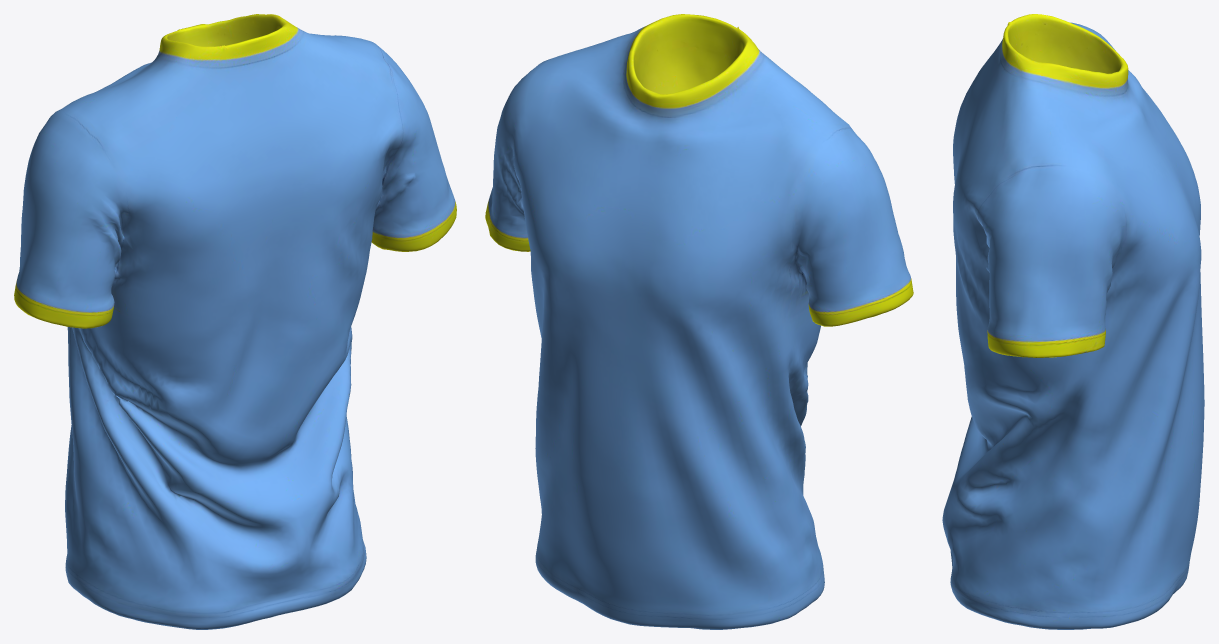
The model's file is training-tee-textured.glb.
The picture shows the model from 3 angles, left to right: view 1: azimuth 30°, elevation 25°; view 2: azimuth 150°, elevation 25°; view 3: azimuth 270°, elevation 25°; orthographic projection. The views are drawn at different scales.
Parts seen in each view (by area): view 1: tripo_node_7d0afdd4-a171-4ca4-9d70-8df51cd6c6c2; view 2: tripo_node_7d0afdd4-a171-4ca4-9d70-8df51cd6c6c2; view 3: tripo_node_7d0afdd4-a171-4ca4-9d70-8df51cd6c6c2.
Boxes of the visible parts, x1,y1,x2,y2 form: tripo_node_7d0afdd4-a171-4ca4-9d70-8df51cd6c6c2: (14, 14, 456, 629); tripo_node_7d0afdd4-a171-4ca4-9d70-8df51cd6c6c2: (485, 14, 913, 629); tripo_node_7d0afdd4-a171-4ca4-9d70-8df51cd6c6c2: (942, 14, 1204, 629).
Size of the model in its own units: 0.8003 by 0.9987 by 0.4388.
1 material, 1 textured.
